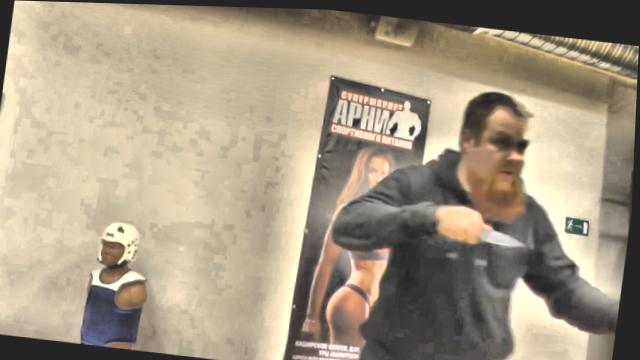knife: (436, 197, 533, 252)
